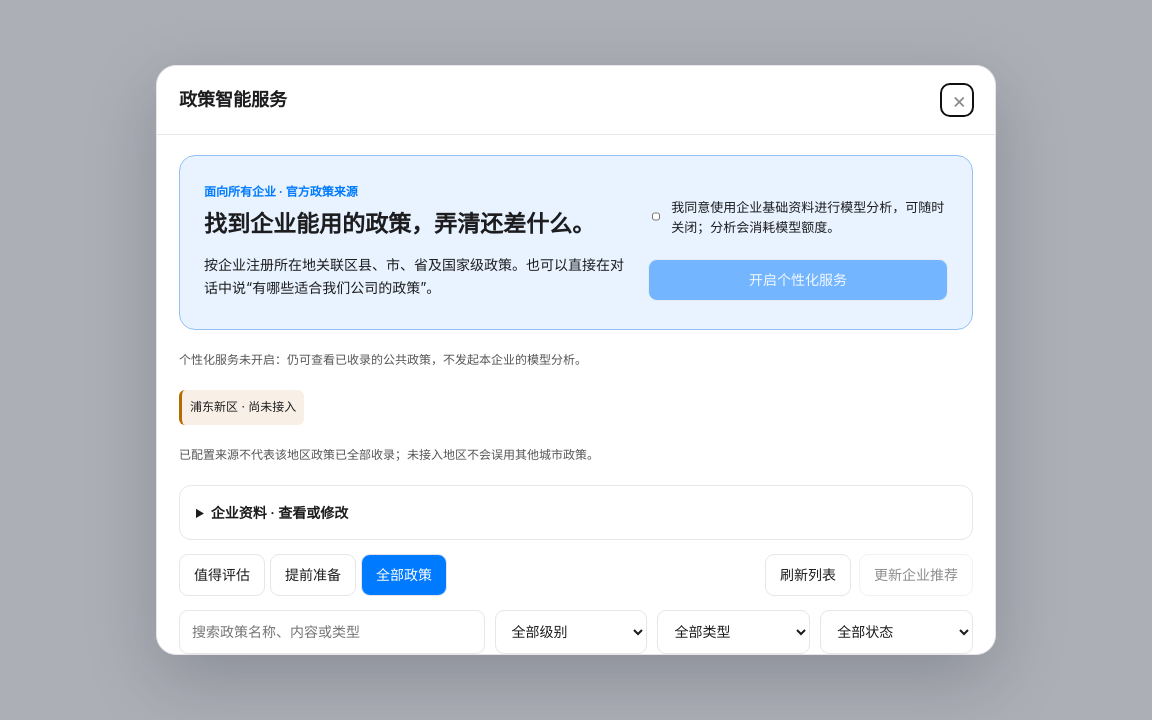
Test case: 全国企业政策服务界面 › keeps one enable entry with nearby consent instead of a duplicate enable panel
Click the checkbox labelled "我同意使用企业基础资料进行模型分析，可随时关闭；分析会消耗模型额度。": x=656, y=217 [652,210,660,223]
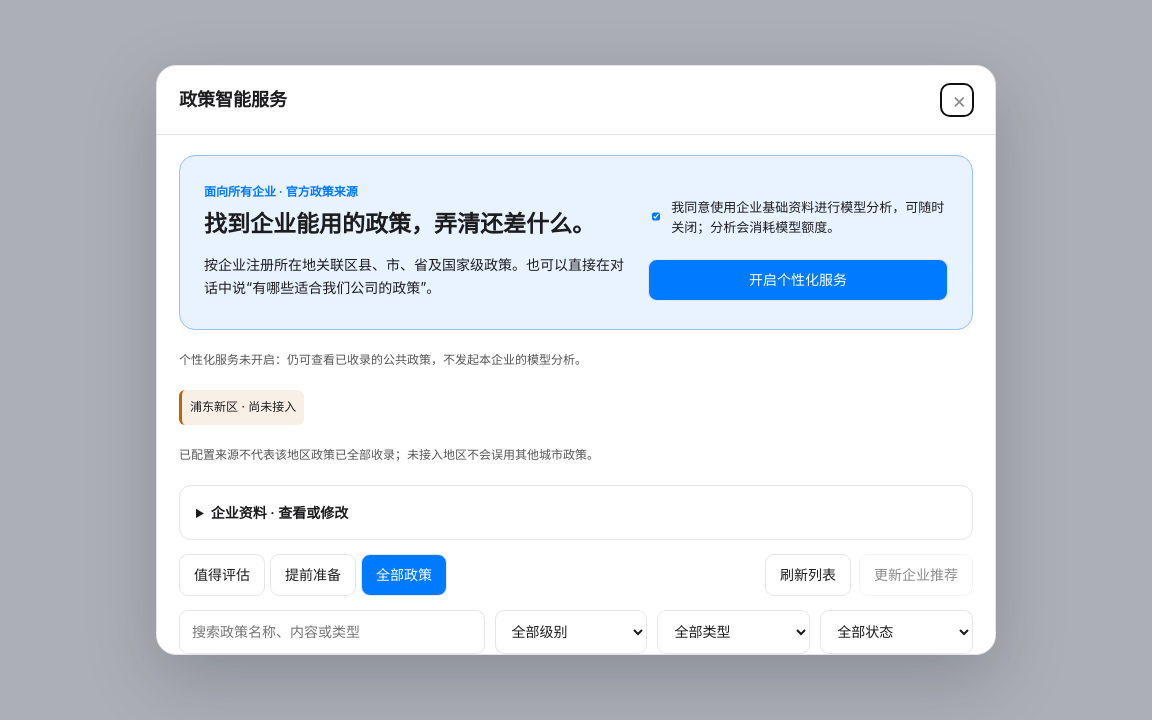
Click the button "开启个性化服务": x=798, y=280 [648,259,948,300]
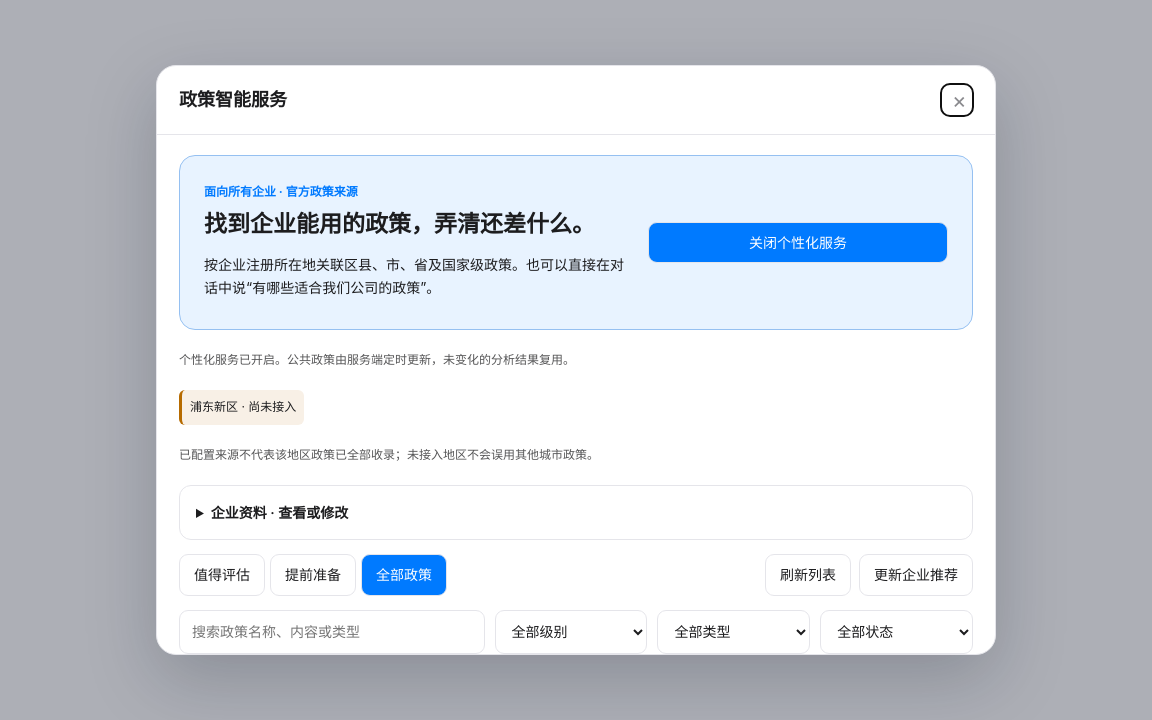
Check: the button "关闭个性化服务" is shown, box [648,222,948,263]
